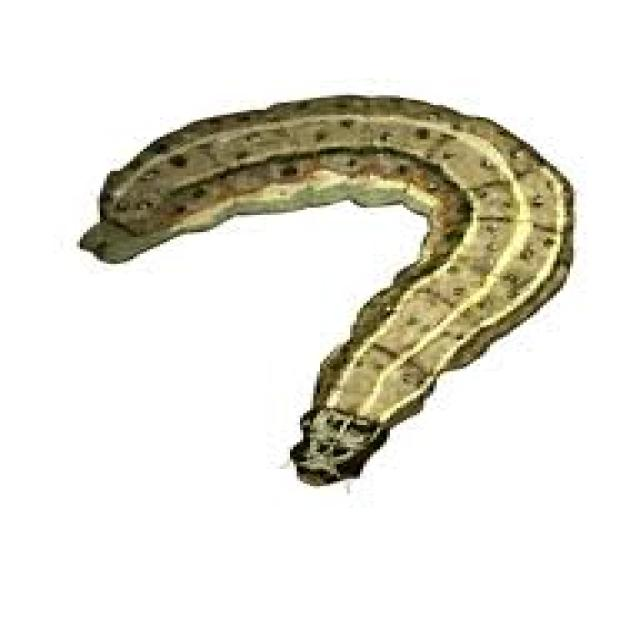Fall-Armyworm: (68, 56, 596, 492)
